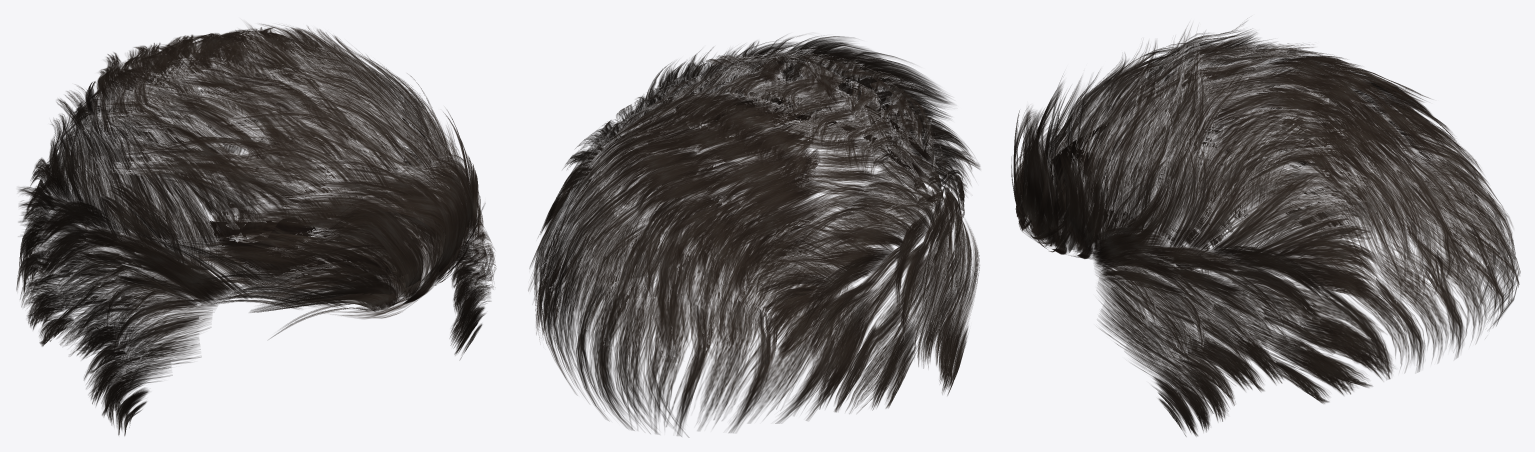
Rendered from Oblong_Straight_CrewCut.glb.
3 views of the same model, side by side, from view 1: azimuth 30°, elevation 25°; view 2: azimuth 150°, elevation 25°; view 3: azimuth 270°, elevation 25° (orthographic). The views are drawn at different scales.
Visible parts, largest first — view 1: s4studio_mesh_3; view 2: s4studio_mesh_3; view 3: s4studio_mesh_3.
Boxes of the visible parts, x1=… form: s4studio_mesh_3: x1=16, y1=24, x2=496, y2=435; s4studio_mesh_3: x1=528, y1=35, x2=979, y2=437; s4studio_mesh_3: x1=1011, y1=21, x2=1520, y2=436.
Size of the model in its own units: 0.1686 by 0.1445 by 0.209.
Materials: 1 (1 with a texture image).
